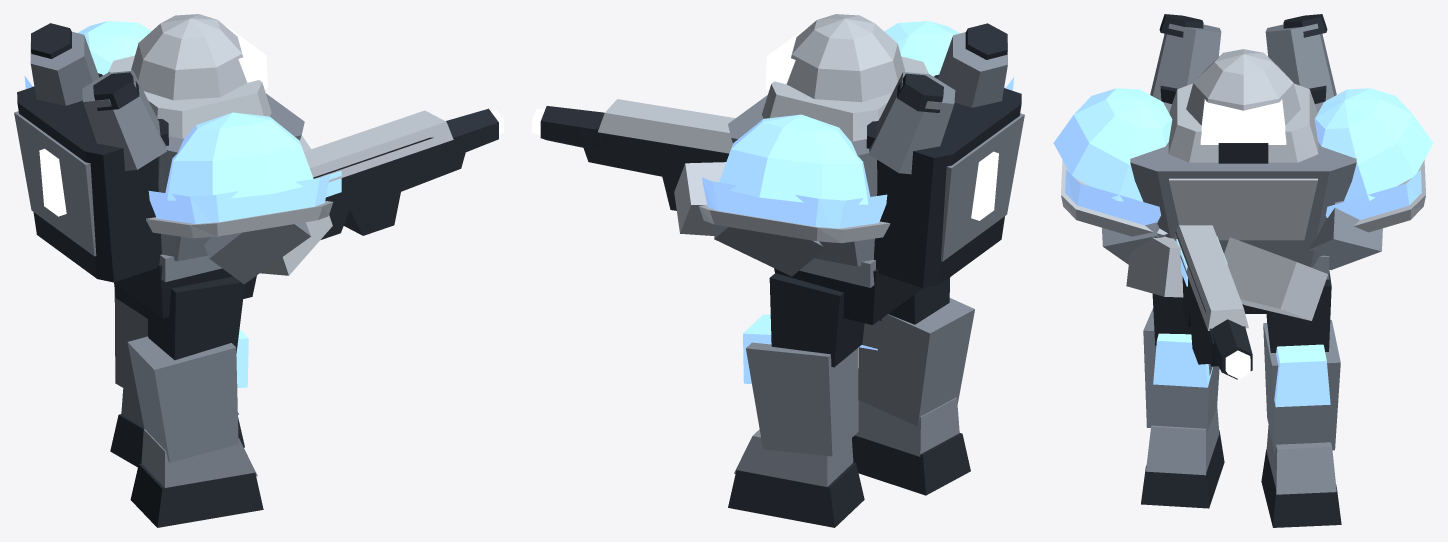
File: rifleman.glb
3 renders of one model, left to right at view 1: azimuth 30°, elevation 25°; view 2: azimuth 150°, elevation 25°; view 3: azimuth 270°, elevation 25°, orthographic. The views are drawn at different scales.
Parts seen in each view (by area): view 1: Surf_dark, Surf_light, Surf_armor, Surf_TEAM, RightLeg_Surf_armor, RightLeg_Surf_dark, LeftLeg_Surf_armor, Surf_visor, LeftLeg_Surf_dark, RightLeg_Surf_TEAM; view 2: Surf_dark, Surf_light, Surf_armor, Surf_TEAM, RightLeg_Surf_armor, LeftLeg_Surf_armor, LeftLeg_Surf_dark, RightLeg_Surf_dark, Surf_visor, LeftLeg_Surf_TEAM; view 3: Surf_light, Surf_TEAM, Surf_armor, LeftLeg_Surf_armor, RightLeg_Surf_armor, Surf_dark, LeftLeg_Surf_dark, RightLeg_Surf_dark, Surf_visor, LeftLeg_Surf_TEAM, RightLeg_Surf_TEAM, Surf_muzzle.
Boxes of the visible parts, <box> form: Surf_dark: <box>17,23,498,318</box>; Surf_light: <box>33,14,453,275</box>; Surf_armor: <box>14,31,310,284</box>; Surf_TEAM: <box>24,21,341,224</box>; RightLeg_Surf_armor: <box>127,336,257,487</box>; RightLeg_Surf_dark: <box>130,276,263,527</box>; LeftLeg_Surf_armor: <box>114,290,238,426</box>; Surf_visor: <box>39,26,267,216</box>; LeftLeg_Surf_dark: <box>110,283,244,467</box>; RightLeg_Surf_TEAM: <box>236,329,248,387</box>; Surf_dark: <box>540,23,1021,324</box>; Surf_light: <box>598,14,1005,243</box>; Surf_armor: <box>714,32,1024,287</box>; Surf_TEAM: <box>701,21,1013,228</box>; RightLeg_Surf_armor: <box>855,298,974,456</box>; LeftLeg_Surf_armor: <box>734,342,858,486</box>; LeftLeg_Surf_dark: <box>728,273,864,527</box>; RightLeg_Surf_dark: <box>852,277,970,495</box>; Surf_visor: <box>765,26,998,220</box>; LeftLeg_Surf_TEAM: <box>743,314,771,383</box>; Surf_light: <box>1061,49,1425,330</box>; Surf_TEAM: <box>1053,88,1433,286</box>; Surf_armor: <box>1102,23,1382,279</box>; LeftLeg_Surf_armor: <box>1263,320,1340,494</box>; RightLeg_Surf_armor: <box>1143,308,1219,475</box>; Surf_dark: <box>1159,14,1327,379</box>; LeftLeg_Surf_dark: <box>1261,271,1341,527</box>; RightLeg_Surf_dark: <box>1141,293,1224,508</box>; Surf_visor: <box>1200,99,1286,144</box>; LeftLeg_Surf_TEAM: <box>1274,344,1330,407</box>; RightLeg_Surf_TEAM: <box>1153,333,1212,387</box>; Surf_muzzle: <box>1225,350,1250,379</box>.
Bounding box in the file's own units: 1.81 × 1.76 × 1.38.
